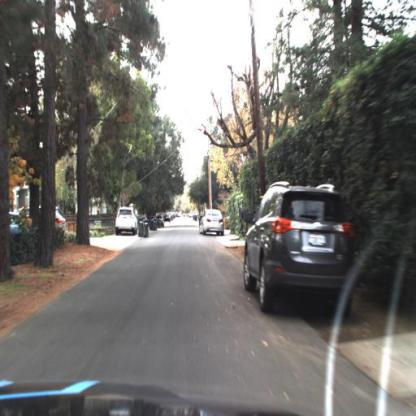car: (242, 178, 360, 322), (32, 201, 72, 239), (115, 203, 138, 237), (115, 205, 139, 236), (200, 209, 225, 237), (193, 213, 203, 227)
